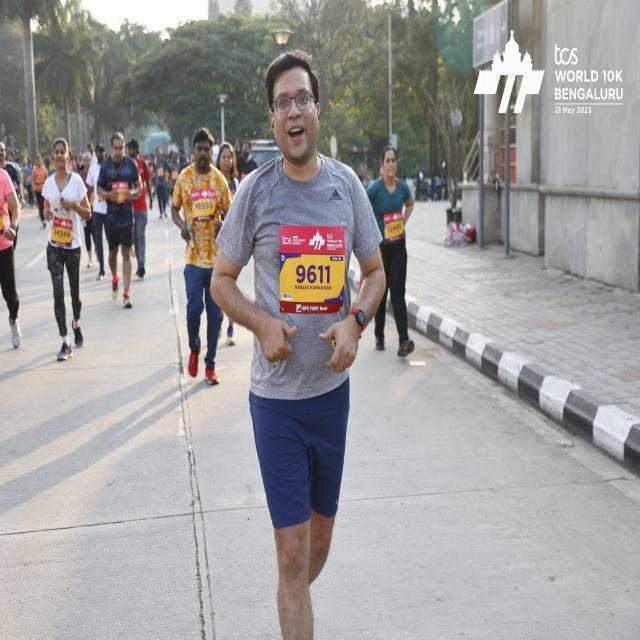dorsal: (278, 221, 346, 315), (188, 186, 218, 223), (382, 210, 406, 240), (52, 216, 74, 247)
